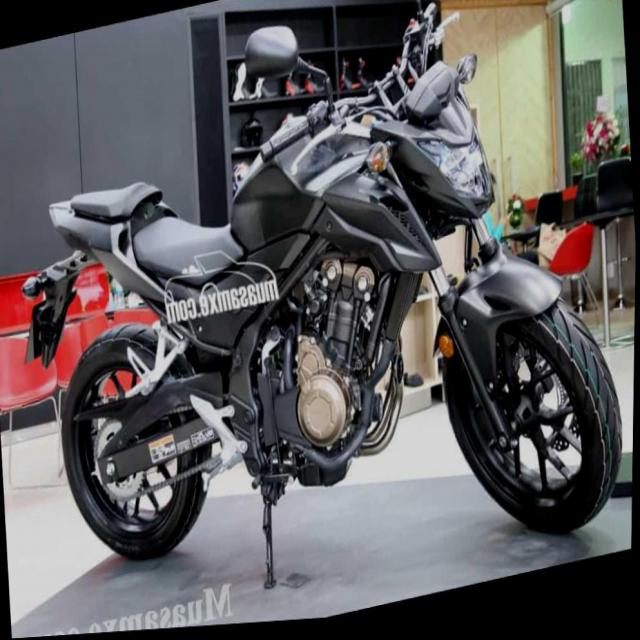CB500F: (15, 35, 637, 638)
